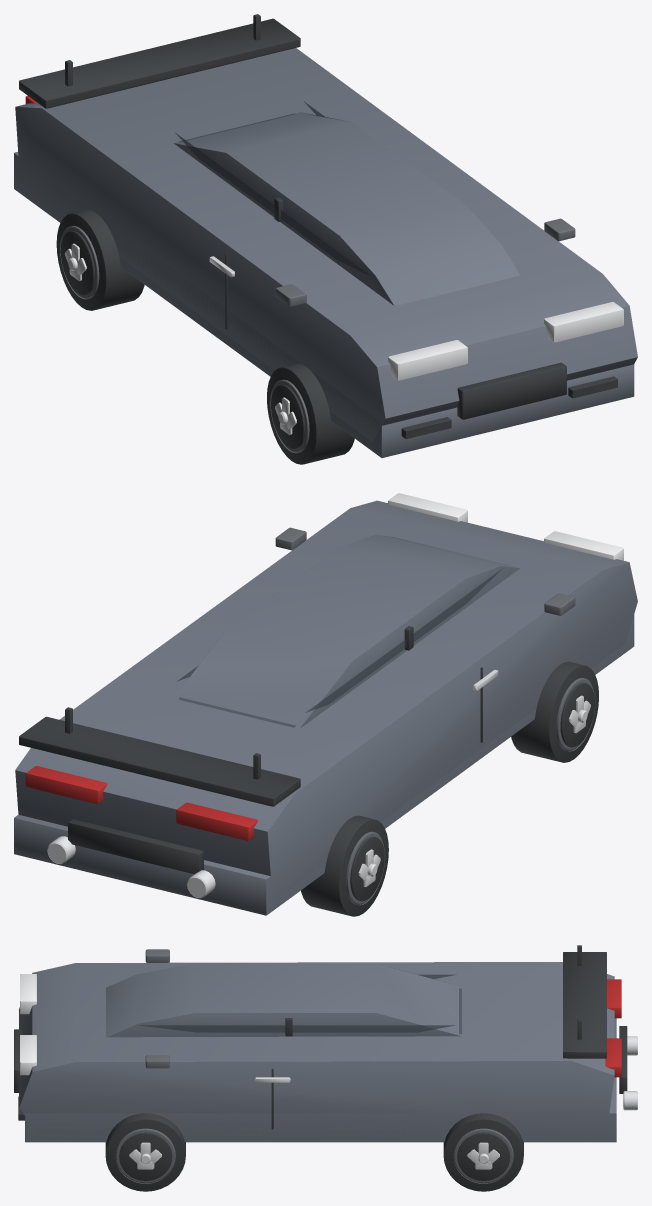
Rendered from midnight-coupe.glb.
3 views of the same model, one above another, from view 1: azimuth 30°, elevation 25°; view 2: azimuth 150°, elevation 25°; view 3: azimuth 270°, elevation 25° (orthographic). The views are drawn at different scales.
Visible parts, largest first — view 1: paint, trim, head, accent, glass, rim; view 2: paint, trim, tail, rim, head, accent, glass; view 3: paint, trim, glass, accent, rim, head, tail.
Boxes of the visible parts, box(x1,y1,x2,y2) form: paint: box(14, 48, 637, 457); trim: box(19, 14, 617, 464); head: box(388, 302, 623, 380); accent: box(60, 218, 575, 453); glass: box(175, 101, 371, 276); rim: box(64, 243, 296, 435); paint: box(14, 500, 637, 915); trim: box(19, 626, 598, 916); tail: box(25, 766, 257, 840); rim: box(47, 669, 590, 897); head: box(388, 493, 623, 560); accent: box(275, 527, 595, 905); glass: box(177, 568, 502, 727); paint: box(19, 962, 616, 1142); trim: box(14, 945, 627, 1191); glass: box(138, 974, 461, 1034); accent: box(115, 949, 513, 1183); rim: box(129, 1036, 637, 1169); head: box(20, 974, 36, 1075); tail: box(605, 979, 621, 1077).
Size of the model in its own units: 2.11 by 1.26 by 4.65.
